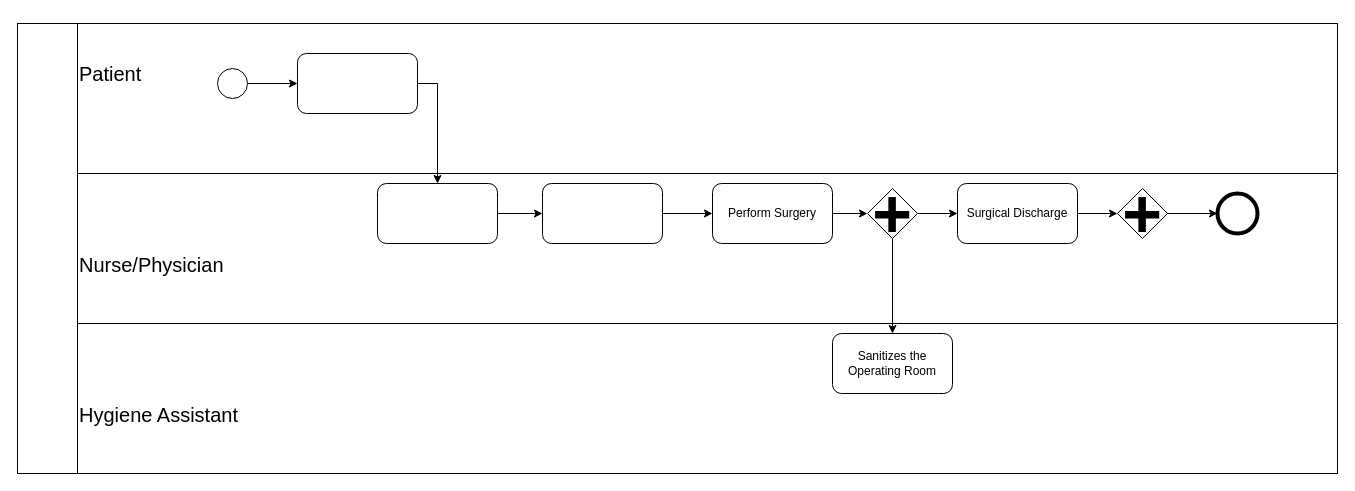
The diagram is 1355 pixels wide and 491 high, and some of its shapes have lost their labels. The shapes that lost their labels are listed below. From the top down, each one's centre as x and y in pixels, then its label:
At (357,83): "Patient Arrival".
At (437,213): "Surgical Preparation".
At (602,213): "Wating for Surgery".
At (47,248): "Surgical Process".
